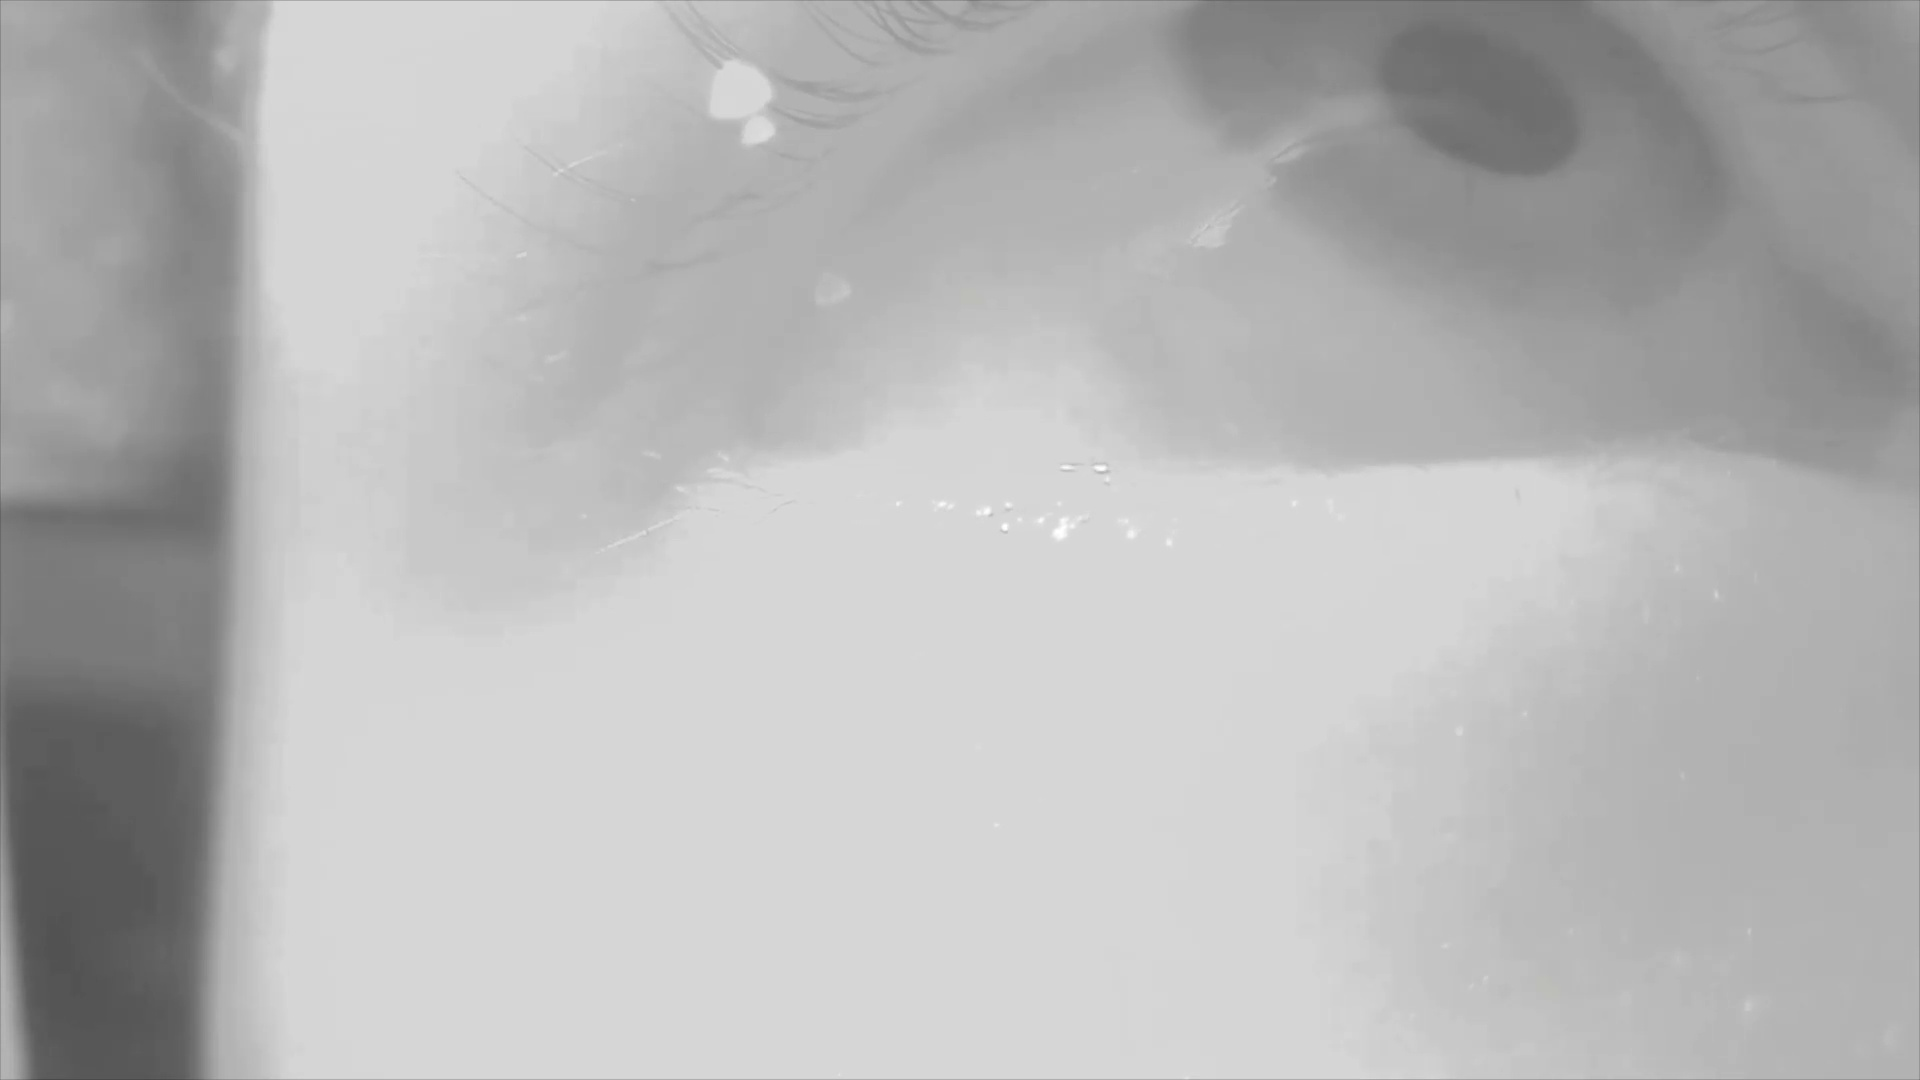pupil: (1371, 27, 1589, 174)
